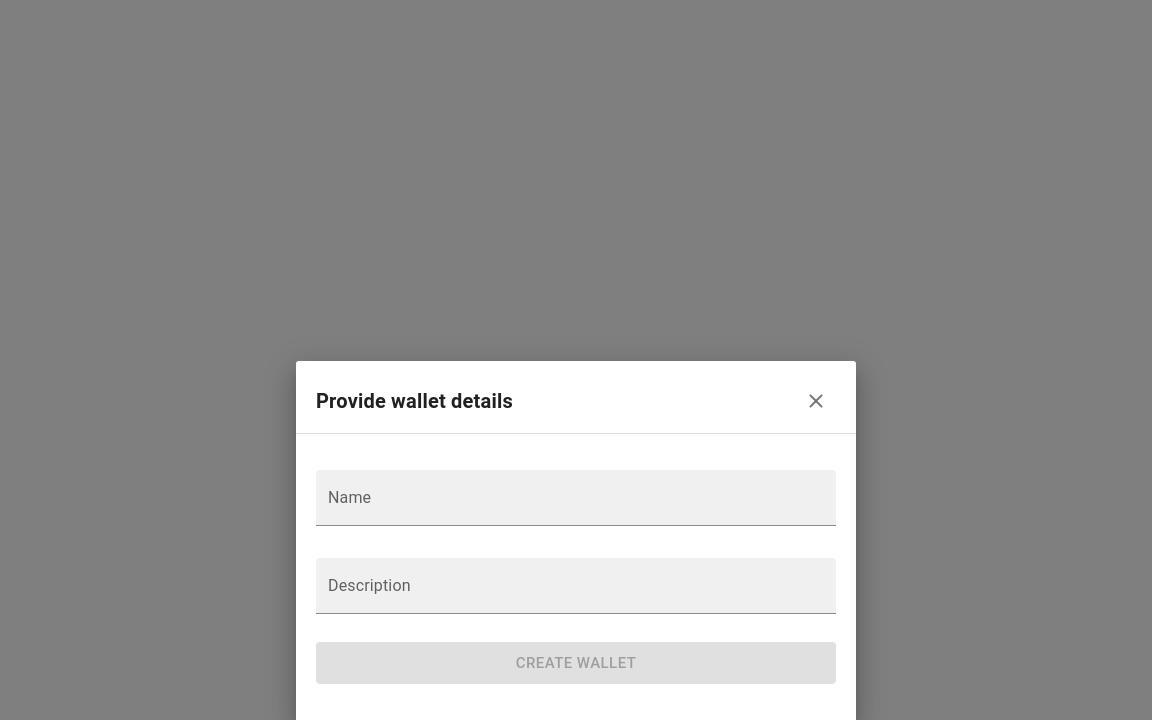
Test: WalletCreateDrawer Component › shows duplicate helper text and disables Create when name exists (case-insensitive)
In the field named "name": [576, 498] box [316, 470, 836, 526], type "my wallet"
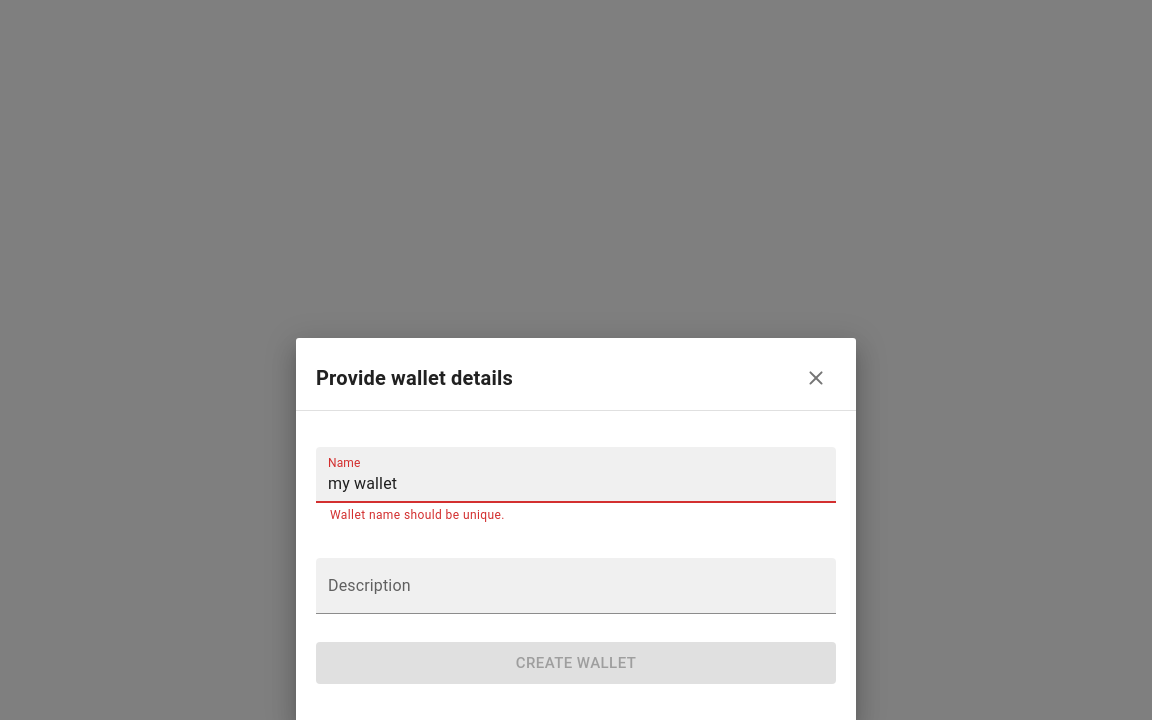
Expected: the button "Create Wallet" is disabled, [316, 642, 836, 684]
Now the text with test id "error-helper-text" reads "Wallet name should be unique.", box [330, 508, 505, 522]
